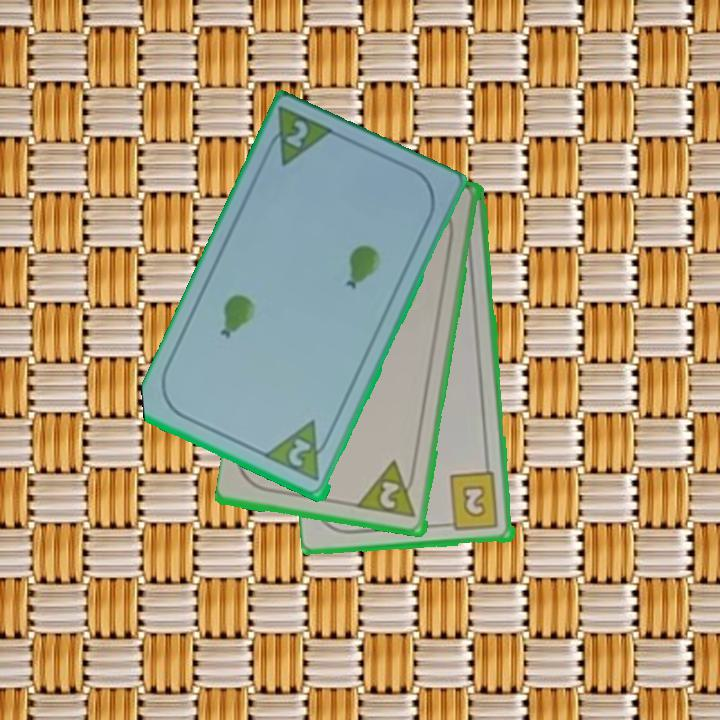2b: (440, 469, 502, 534)
2p: (259, 105, 339, 170), (263, 417, 337, 485), (356, 458, 420, 521)
